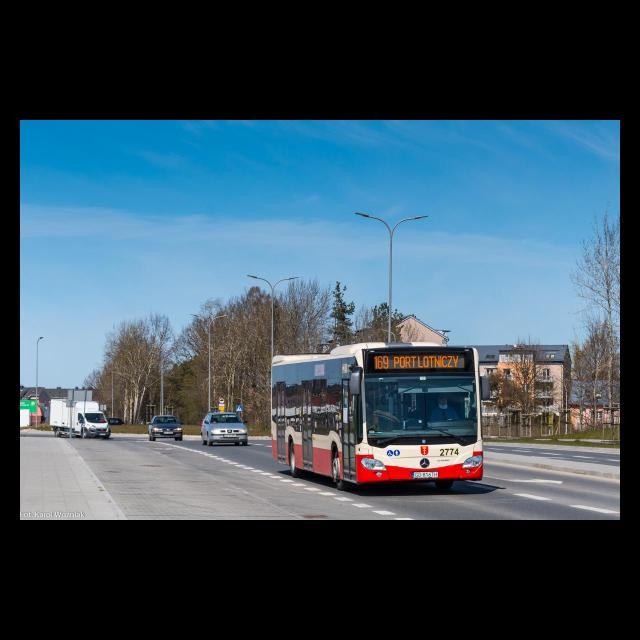Bus: (271, 342, 485, 490)
Car: (200, 413, 248, 446), (148, 416, 182, 442)
Electric pole: (356, 212, 428, 343), (248, 274, 298, 361), (191, 314, 228, 413)
